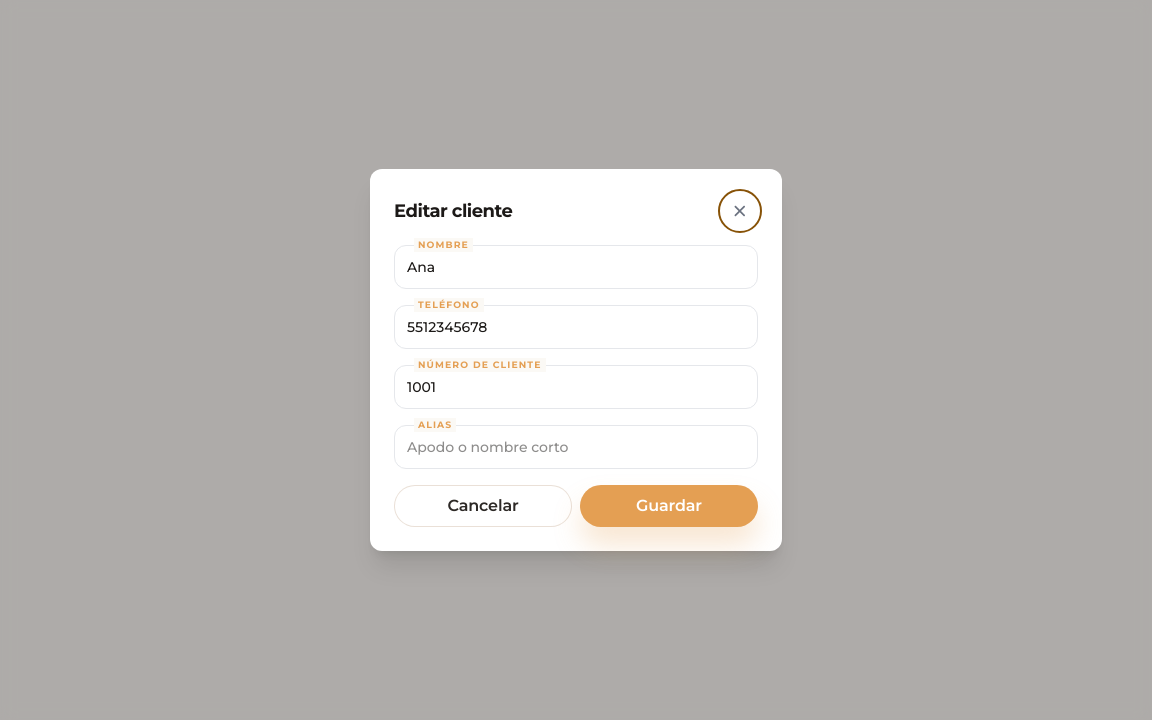
Test: EditClientModal › validates minimum name length before submit
Step 1. Replace the text in the field labelled "Nombre" with "Al" → (576, 267), box [394,245,758,289]
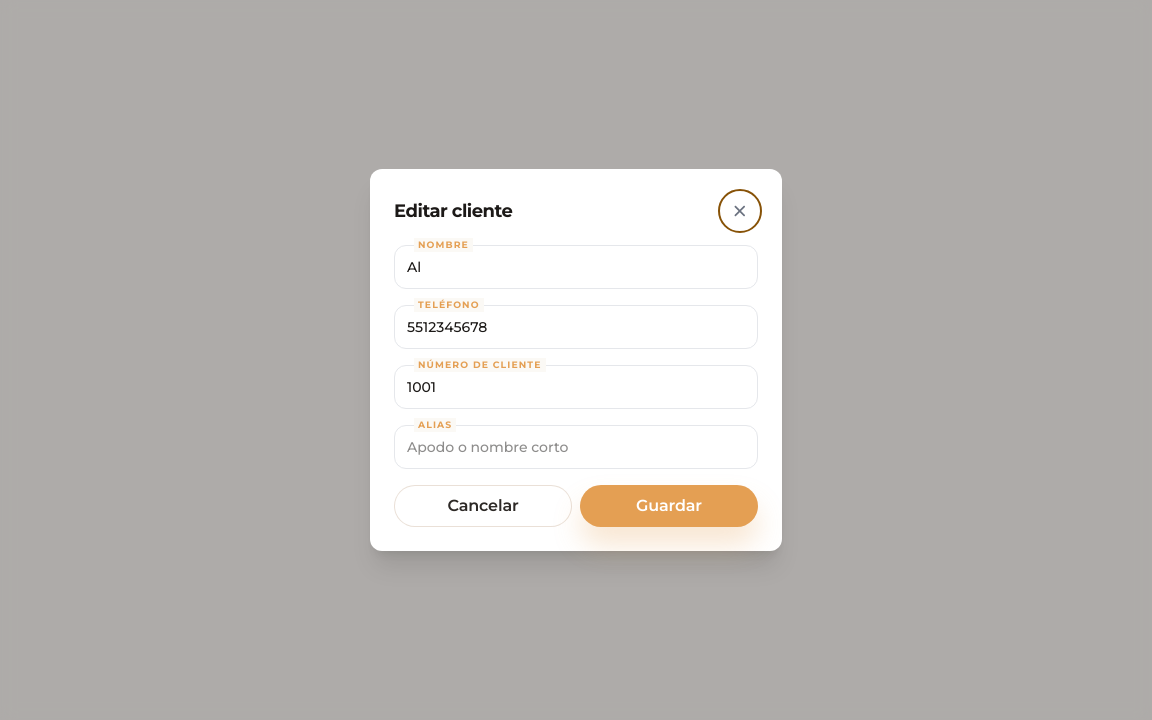
Step 2. Click the button "Guardar" → (669, 506), box [580,485,758,527]
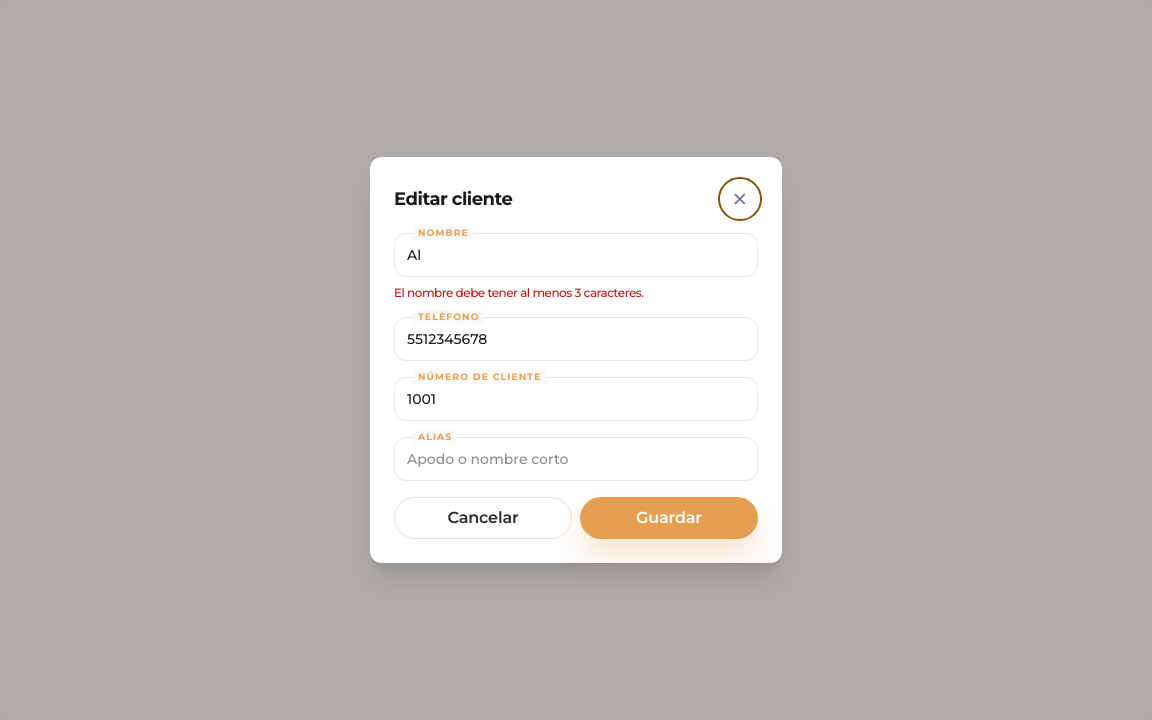
Check: the text "El nombre debe tener al menos 3 caracteres." is shown, box [394,285,644,300]
